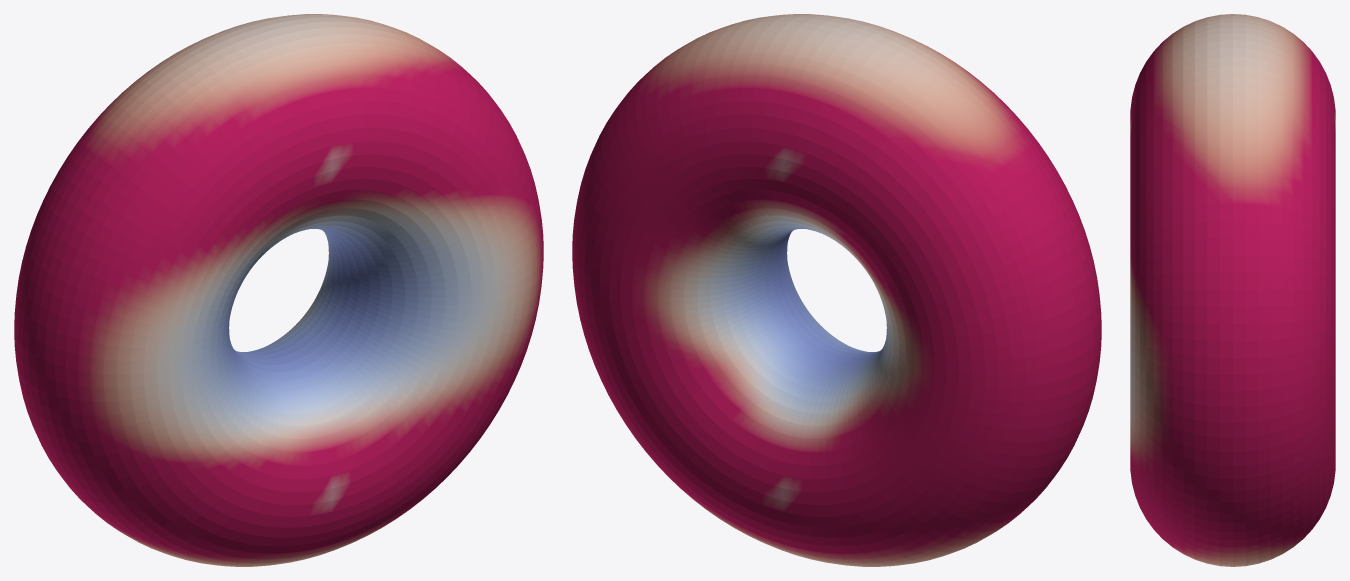
The picture shows the model from 3 angles, left to right: view 1: azimuth 30°, elevation 25°; view 2: azimuth 150°, elevation 25°; view 3: azimuth 270°, elevation 25°; orthographic projection. The views are drawn at different scales.
Parts seen in each view (by area): view 1: world; view 2: world; view 3: world.
Boxes of the visible parts, left/top/right/bottom form: world: left=14, top=14, right=543, bottom=566; world: left=572, top=14, right=1101, bottom=566; world: left=1130, top=14, right=1335, bottom=566.
Bounding box in the file's own units: 25.47 × 25.47 × 9.45.
